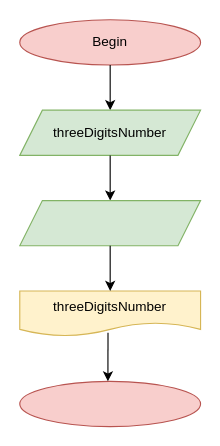
Some shapes in this 220 by 446 pixel diagram are drawn without their labels. Here are the shapes that lost their labels. From the top down, the centre of each, then its label:
At [110,222]: "lastDigit = threeDigitsNumber % 10".
At [110,403]: "End".
